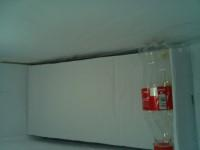bottle: (0, 91, 18, 98)
